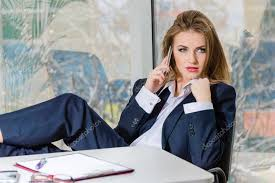phone: (164, 45, 173, 80)
talk: (145, 43, 209, 88)
